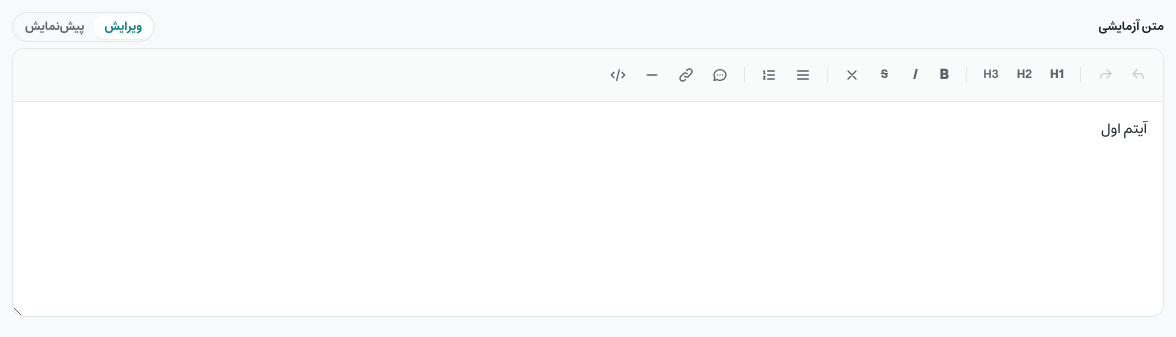
Test: RichTextEditor Component Suite › applies Bullet list and Numbered list formatting
Click the button named "فهرست نشانه‌دار". click: {"x": 803, "y": 75}
box: [787, 59, 819, 91]
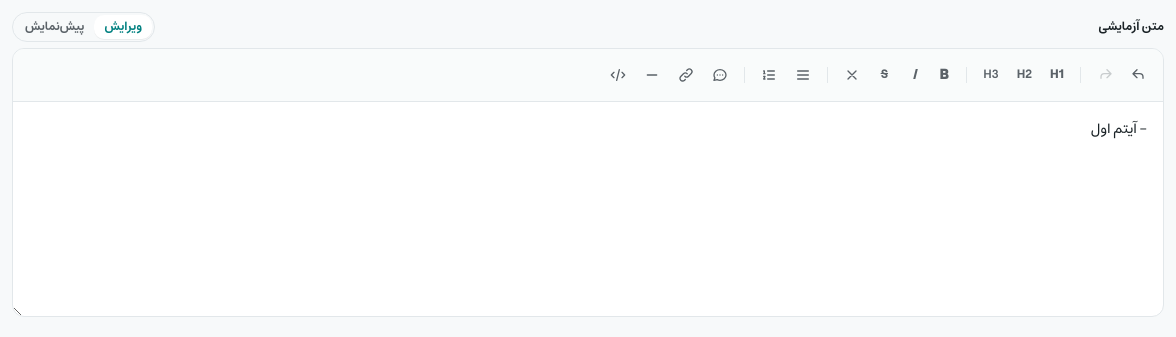
Expected: the text box holds "- آیتم اول"
Click the button named "فهرست شماره‌دار". click: {"x": 769, "y": 75}
box: [753, 59, 785, 91]
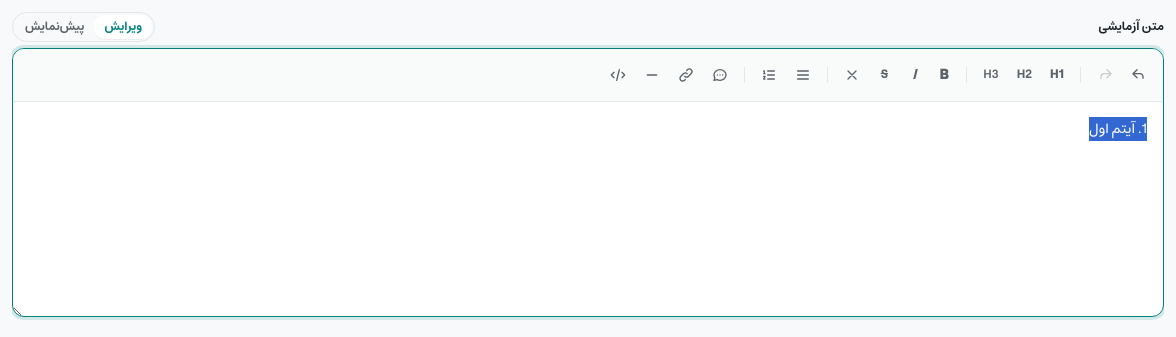
Expected: the text box holds "1. آیتم اول"
